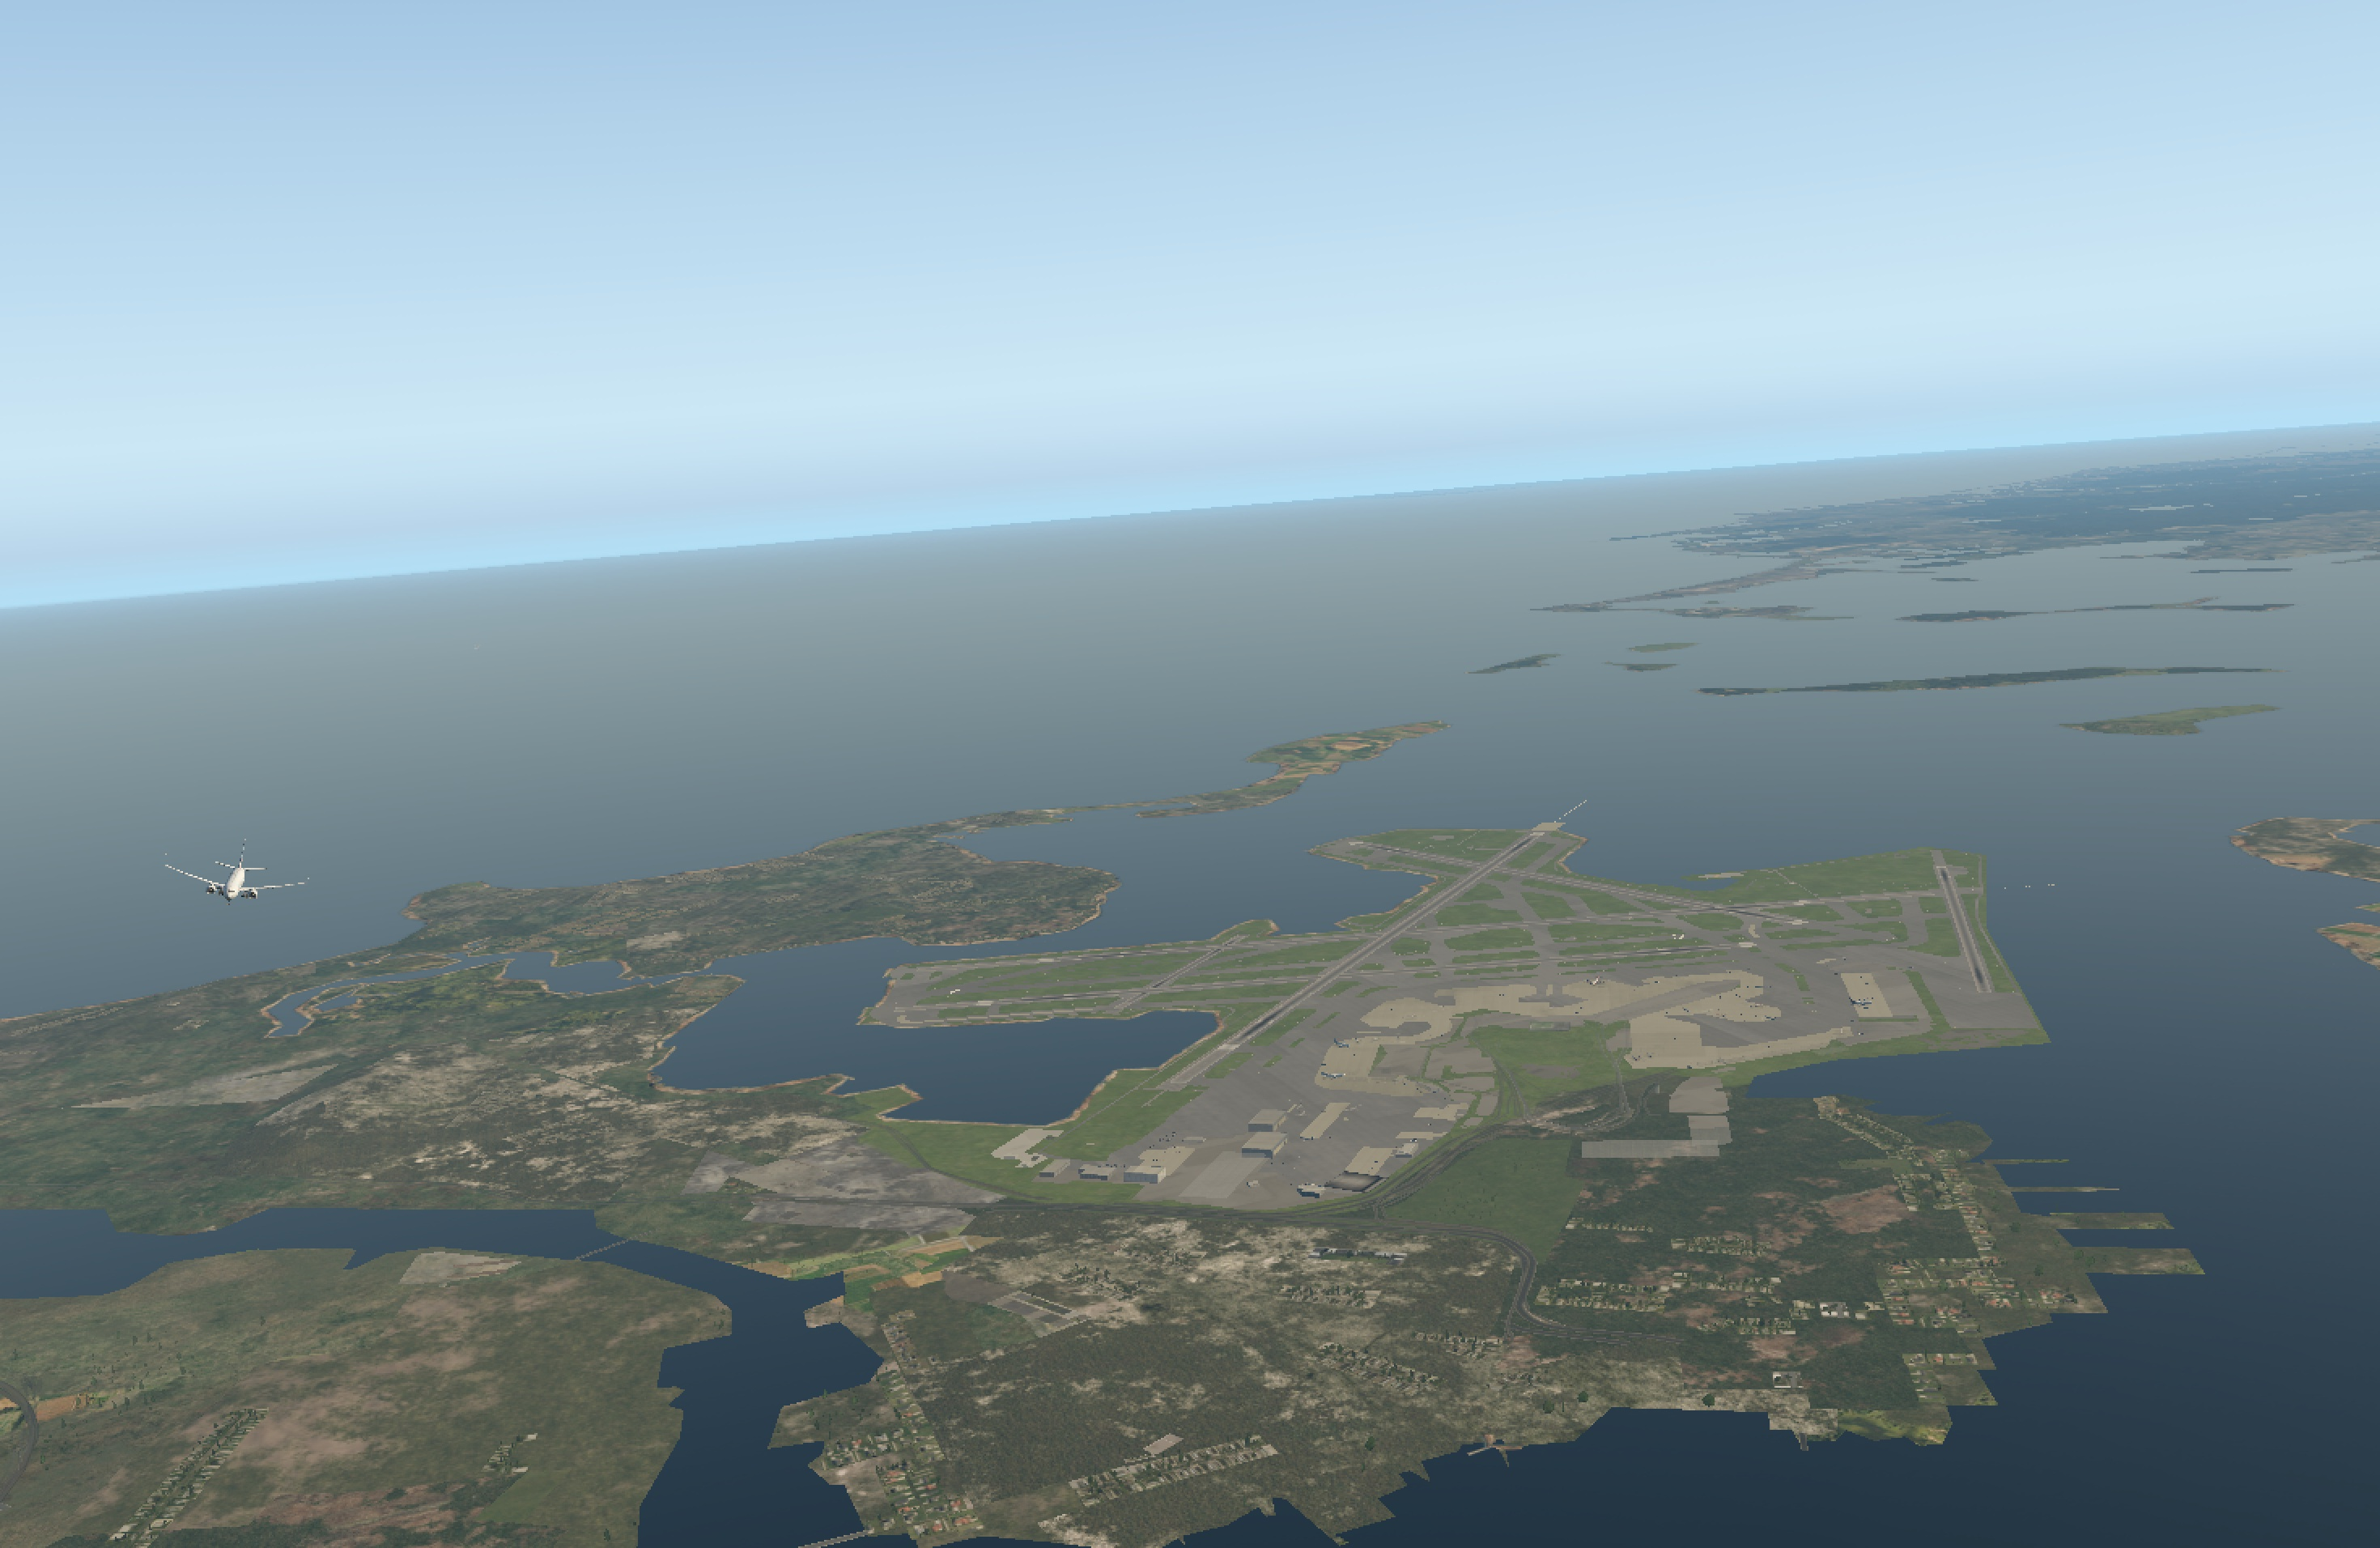aircraft: (165, 861, 304, 913)
